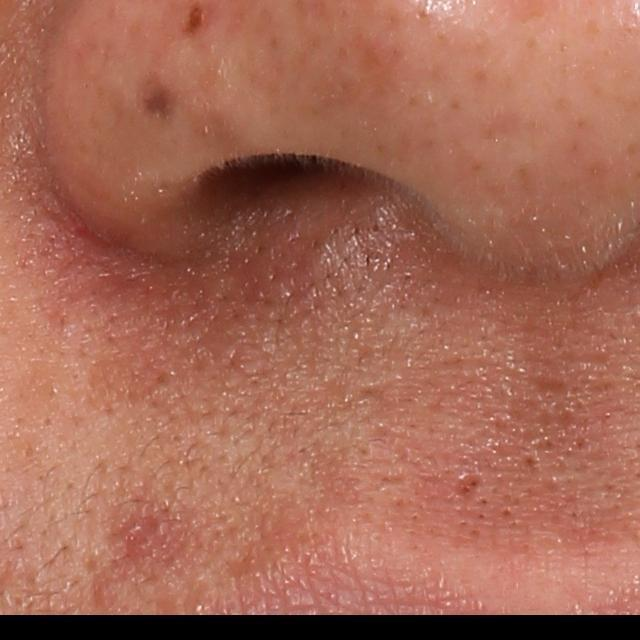atrophic_scar: (448, 471, 487, 506)
nevus: (180, 1, 213, 35)
